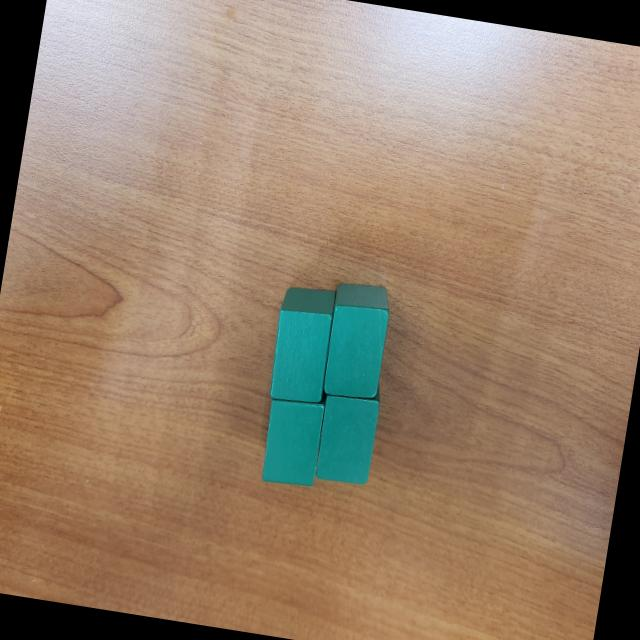green: (264, 280, 342, 404), (319, 281, 394, 406), (310, 389, 384, 488), (256, 394, 328, 492)
